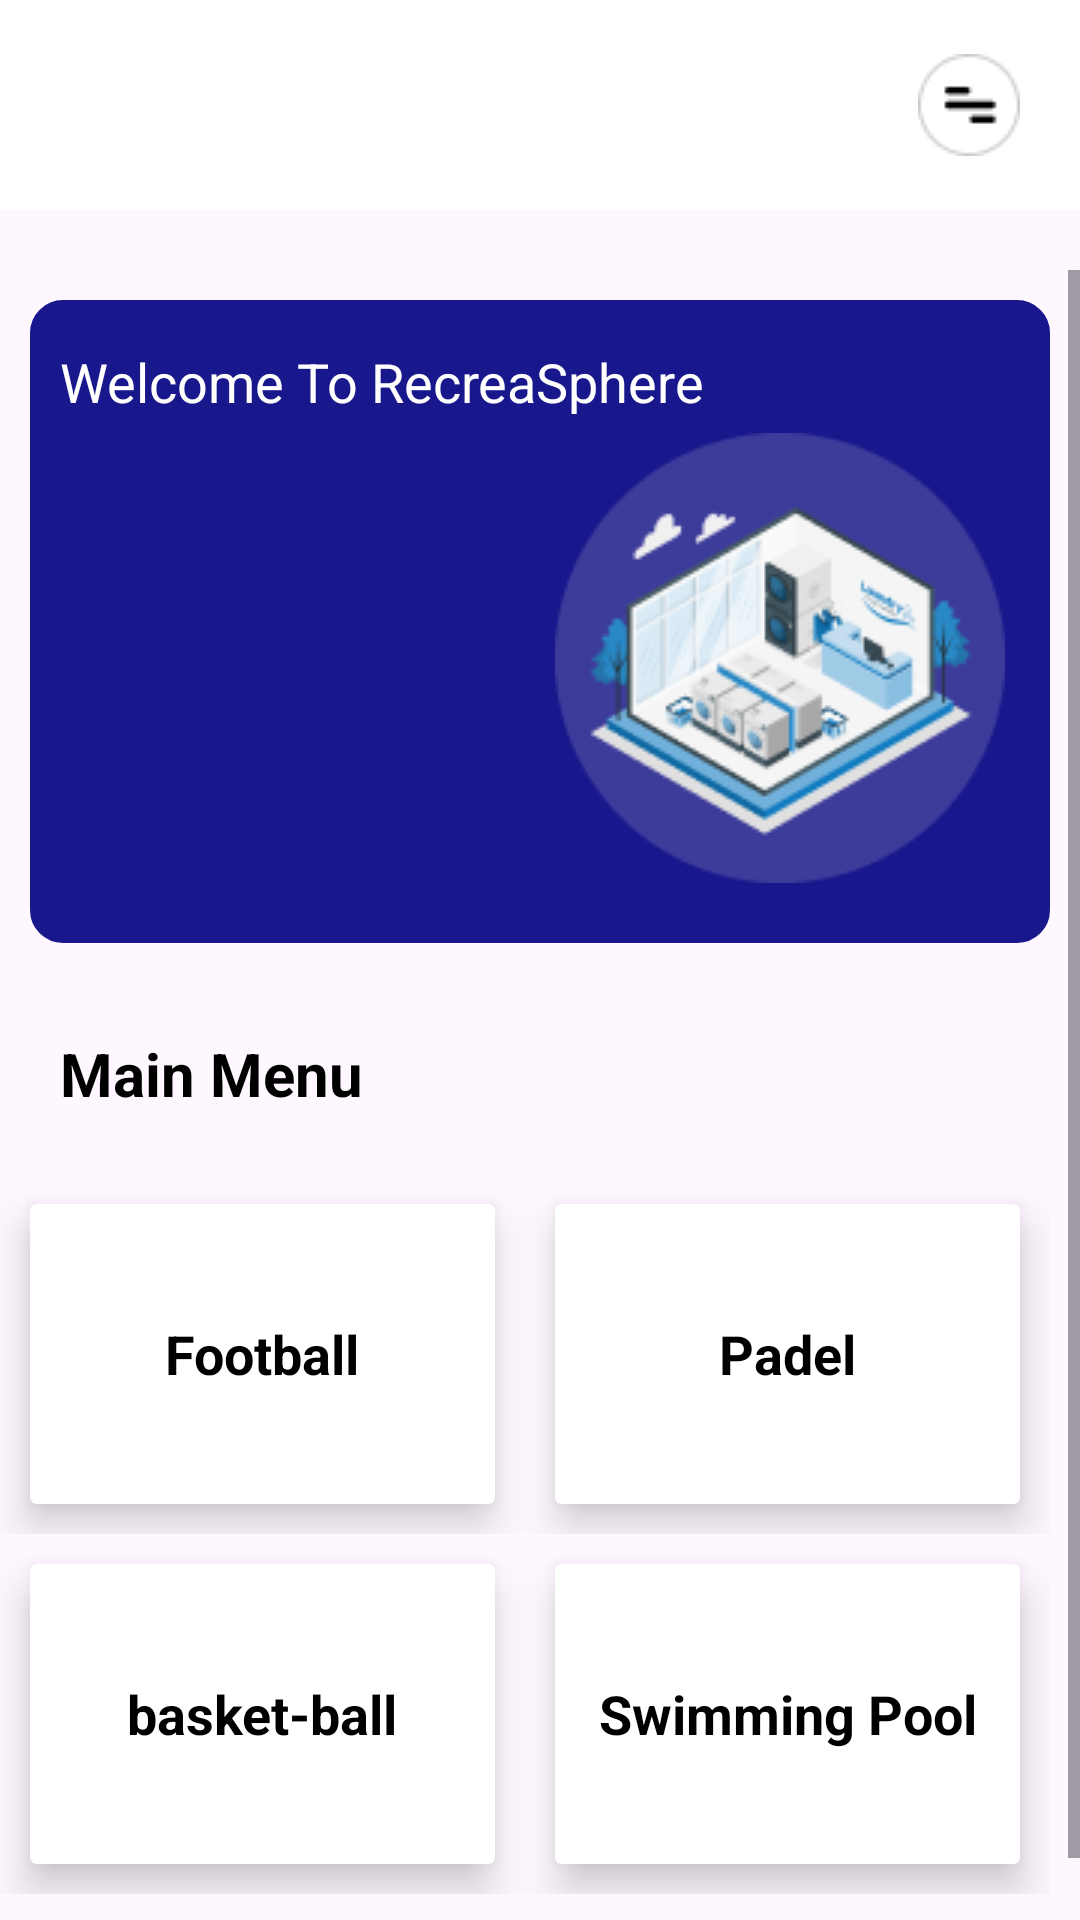

Icon click points for this 1080 × 1920 phone screenshot, format (x,y):
option: (969,105)
